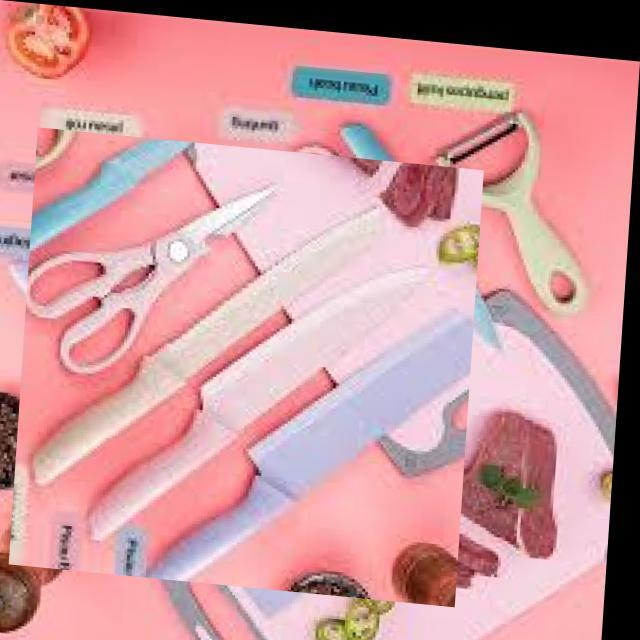knife: (29, 202, 387, 491), (85, 266, 434, 545), (144, 308, 478, 582)
